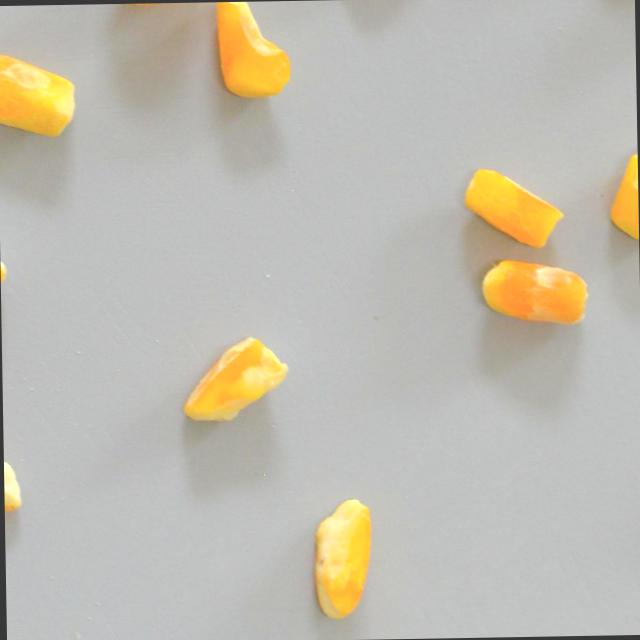estandar: (207, 0, 293, 106)
pelicula: (0, 39, 103, 145), (177, 333, 288, 426), (459, 162, 566, 250), (476, 256, 590, 328), (0, 214, 37, 319), (604, 142, 639, 246), (2, 436, 36, 540)
punto_negro: (304, 482, 375, 636)
